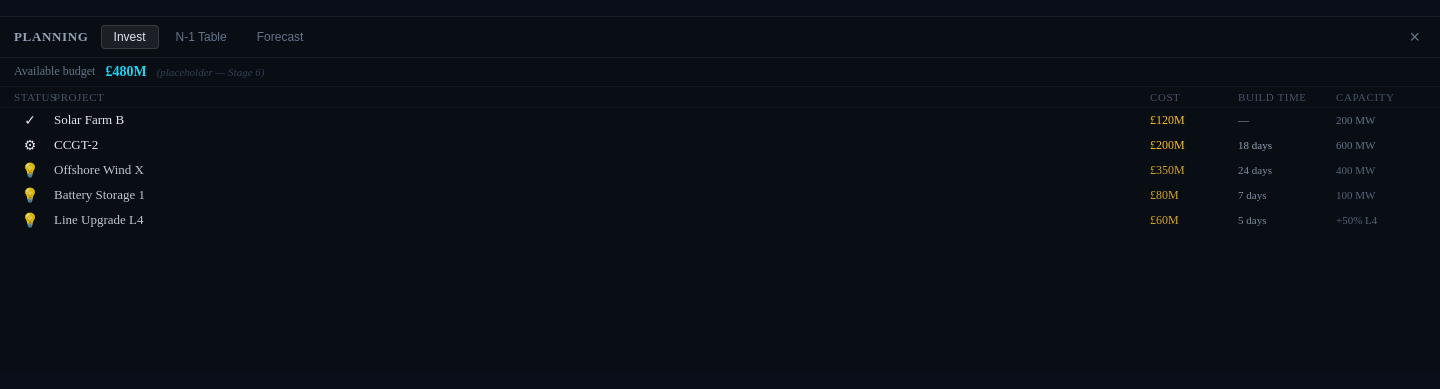
Test case: PlanningPanel › switches to Forecast tab on click
What coordinates should you click on to do the following:
click the button with test id "tab-forecast"
I would click on:
 (280, 37)
Its box is left=244, top=25, right=316, bottom=49.
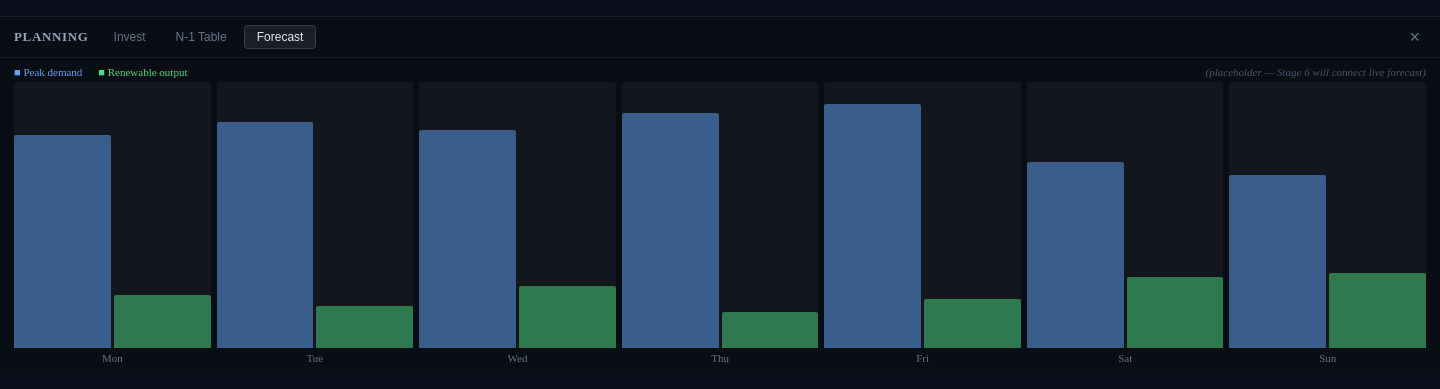
Result: the element with test id "invest-tab" is gone
Result: the element with test id "forecast-tab" is shown
